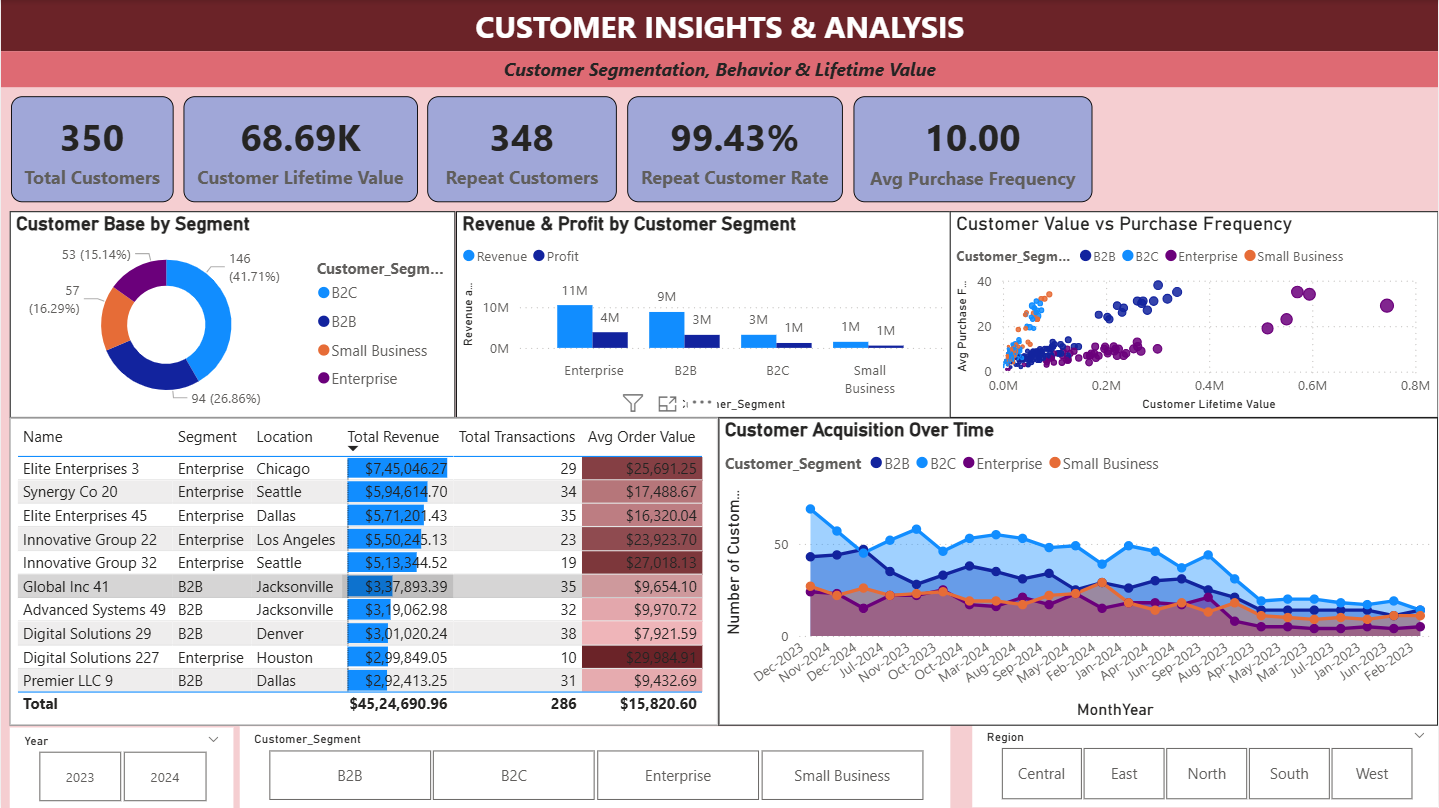

This screenshot's page, from the dashboard's own definition file:
{"tool":"powerbi","page":{"name":"Customer Insights","canvas":[1280,720],"ordinal":3},"visuals":[{"type":"textbox","box":[0,0,1280.3,45.2],"z":0},{"type":"textbox","box":[0,45.2,1280.3,31.8],"z":1000},{"type":"slicer","fields":{"Values":["DateTable.Year"]},"box":[8.2,647.7,199,72.7],"z":2000},{"type":"slicer","fields":{"Values":["Sales_Transactions.Region"]},"box":[864.5,644.9,415.8,74.1],"z":3000},{"type":"slicer","fields":{"Values":["Sales_Transactions.Customer_Segment"]},"box":[212.7,646.3,632.6,72.7],"z":4000},{"type":"card","fields":{"Values":["_Measure.Total Customers"]},"box":[8.4,85.7,144.8,94.1],"z":5000},{"type":"card","fields":{"Values":["_Measure.Repeat Customers"]},"box":[380,85.7,168.9,94.1],"z":6000},{"type":"card","fields":{"Values":["_Measure.Customer Lifetime Value"]},"box":[162.3,85.7,208.7,94.1],"z":7000},{"type":"card","fields":{"Values":["_Measure.Repeat Customer Rate"]},"box":[558,85.7,191.8,94.1],"z":8000},{"type":"card","fields":{"Values":["_Measure.Avg Purchase Frequency"]},"box":[758.8,85.7,212.7,94.7],"z":9000},{"type":"donutChart","title":"Customer Base by Segment","fields":{"Category":["Sales_Transactions.Customer_Segment"],"Y":["_Measure.Total Customers"]},"box":[8.2,188,396.6,183.9],"z":10000},{"type":"clusteredColumnChart","title":"Revenue & Profit by Customer Segment","fields":{"Category":["Sales_Transactions.Customer_Segment"],"Y":["Sales_Transactions.Total_Amount","Sales_Transactions.Profit"]},"box":[404.8,188,440.5,183.9],"z":11000},{"type":"tableEx","fields":{"Values":["Customers.Name","Customers.Segment","Customers.Location","_Measure.Total Revenue","_Measure.Total Transactions","_Measure.Avg Order Value"]},"box":[8.2,371.9,631.2,274.4],"z":12000},{"type":"areaChart","title":"Customer Acquisition Over Time","fields":{"Category":["DateTable.MonthYear"],"Y":["_Measure.New Customers"],"Series":["Sales_Transactions.Customer_Segment"]},"box":[639.5,371.9,640.8,274.4],"z":13000},{"type":"scatterChart","title":"Customer Value vs Purchase Frequency","fields":{"X":["_Measure.Customer Lifetime Value"],"Y":["_Measure.Avg Purchase Frequency"],"Series":["Sales_Transactions.Customer_Segment"],"Size":["Sales_Transactions.Total_Amount"],"Category":["Customers.Name"]},"box":[845,188,435,184],"z":14000}]}

Visuals, with their boxes in screenshot pixels (x1, y1, x2, y2), scaled from the page's 1280x720 canvas onto the 1439x808 screenshot:
textbox: {"left": 0, "top": 0, "right": 1438, "bottom": 51}
textbox: {"left": 0, "top": 51, "right": 1438, "bottom": 86}
slicer - DateTable.Year: {"left": 9, "top": 727, "right": 233, "bottom": 807}
slicer - Sales_Transactions.Region: {"left": 972, "top": 724, "right": 1438, "bottom": 807}
slicer - Sales_Transactions.Customer_Segment: {"left": 239, "top": 725, "right": 950, "bottom": 807}
card - _Measure.Total Customers: {"left": 9, "top": 96, "right": 172, "bottom": 202}
card - _Measure.Repeat Customers: {"left": 427, "top": 96, "right": 617, "bottom": 202}
card - _Measure.Customer Lifetime Value: {"left": 182, "top": 96, "right": 417, "bottom": 202}
card - _Measure.Repeat Customer Rate: {"left": 627, "top": 96, "right": 843, "bottom": 202}
card - _Measure.Avg Purchase Frequency: {"left": 853, "top": 96, "right": 1092, "bottom": 202}
"Customer Base by Segment" donutChart: {"left": 9, "top": 211, "right": 455, "bottom": 417}
"Revenue & Profit by Customer Segment" clusteredColumnChart: {"left": 455, "top": 211, "right": 950, "bottom": 417}
tableEx - Customers.Name x Customers.Segment: {"left": 9, "top": 417, "right": 719, "bottom": 725}
"Customer Acquisition Over Time" areaChart: {"left": 719, "top": 417, "right": 1438, "bottom": 725}
"Customer Value vs Purchase Frequency" scatterChart: {"left": 950, "top": 211, "right": 1438, "bottom": 417}
